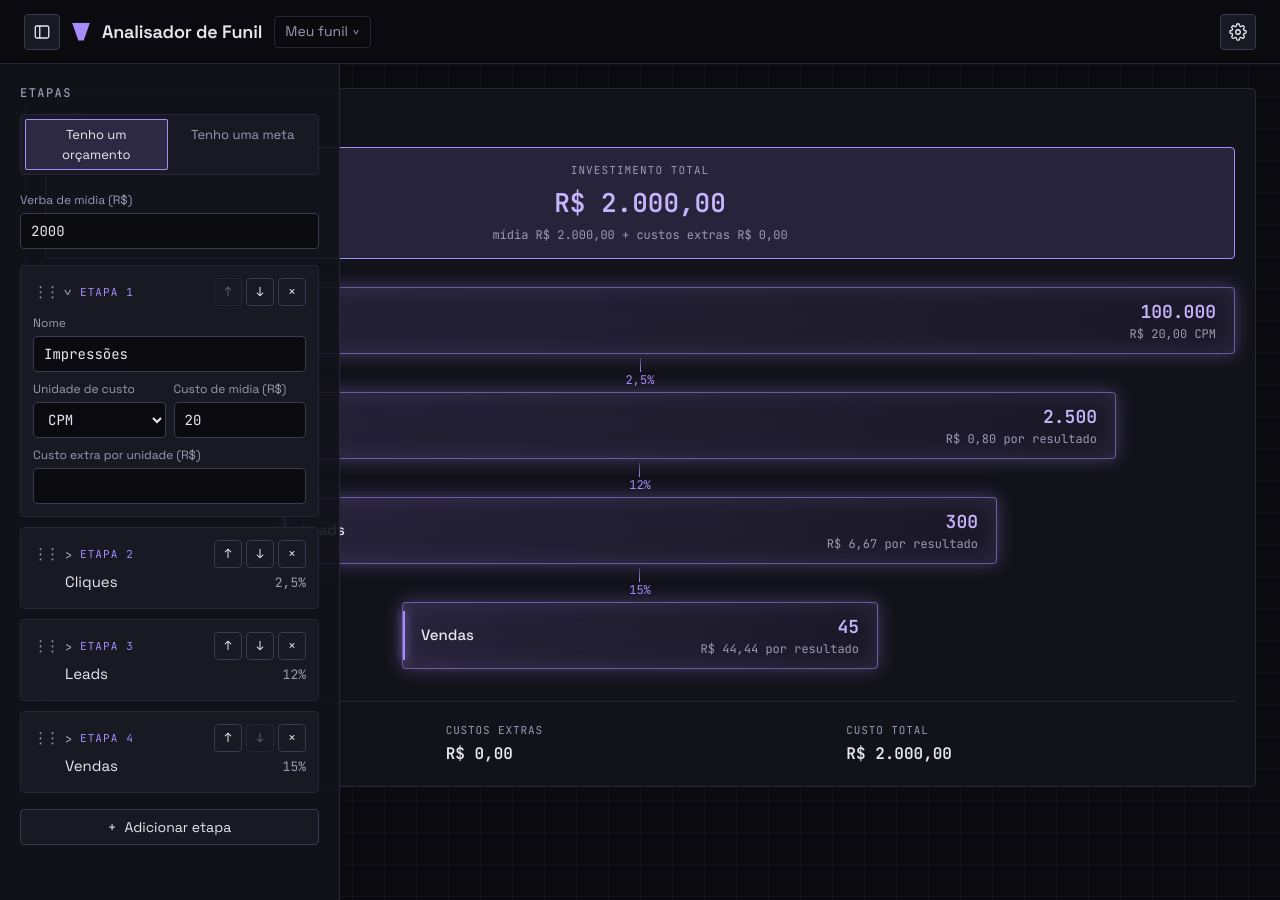
personalizada › o campo começa com o hexadecimal da cor marcada, na versão do tema escuro
Click the button named "Configurações": (1238, 32) [1220,14,1256,50]
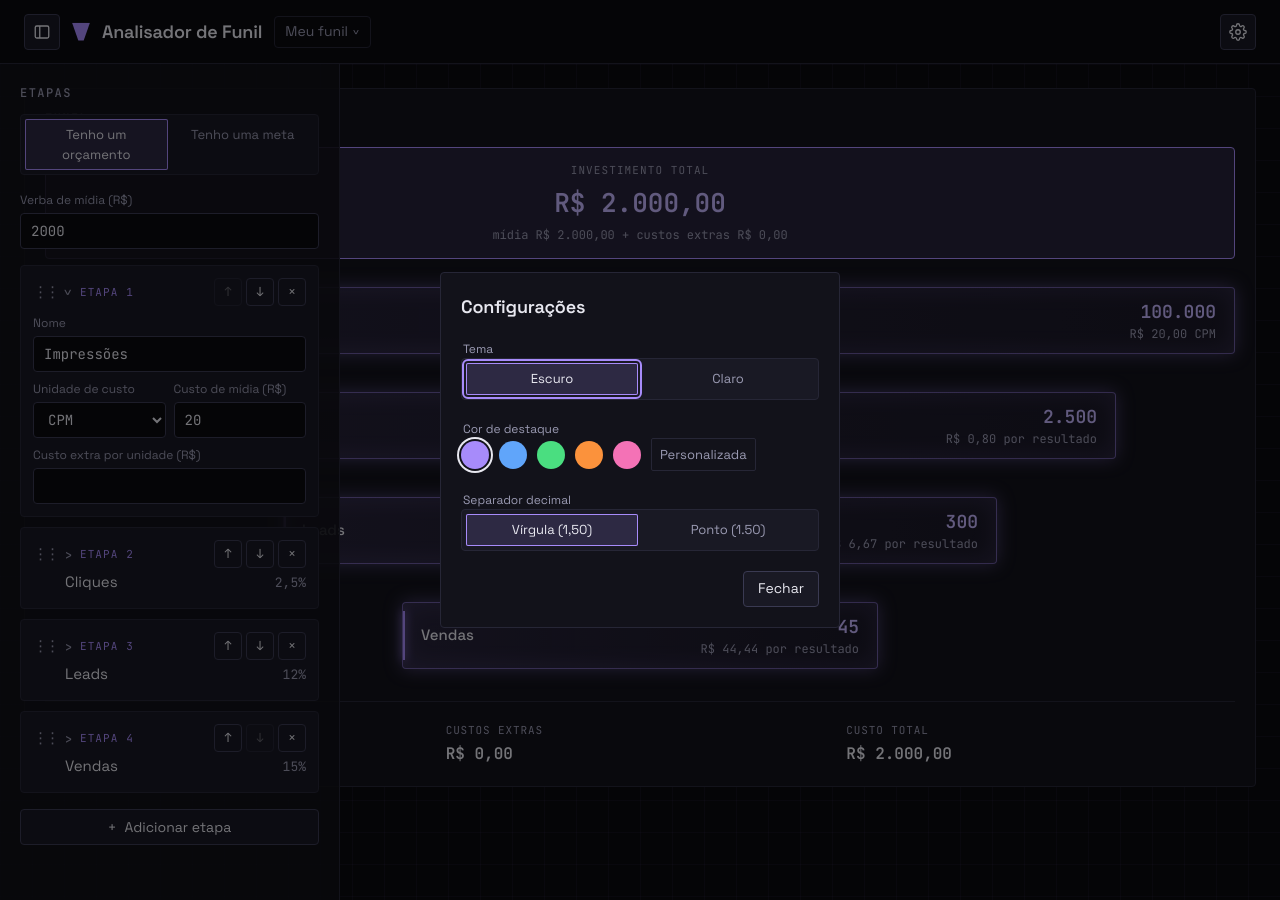
Click the 1st radio button labelled "Claro": (728, 379) [712,370,744,387]
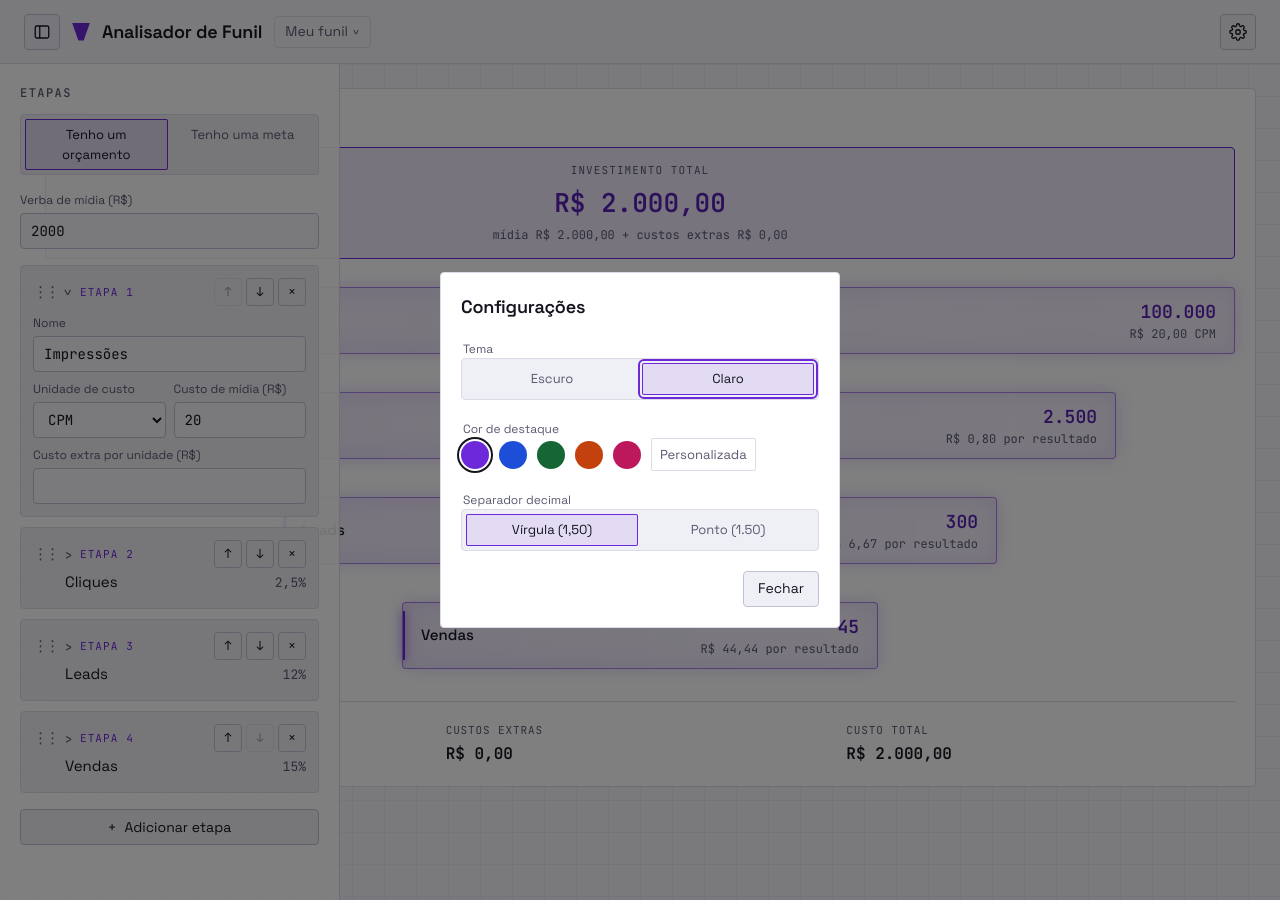
Click the radio button named "Verde": (551, 454) [537,440,565,468]
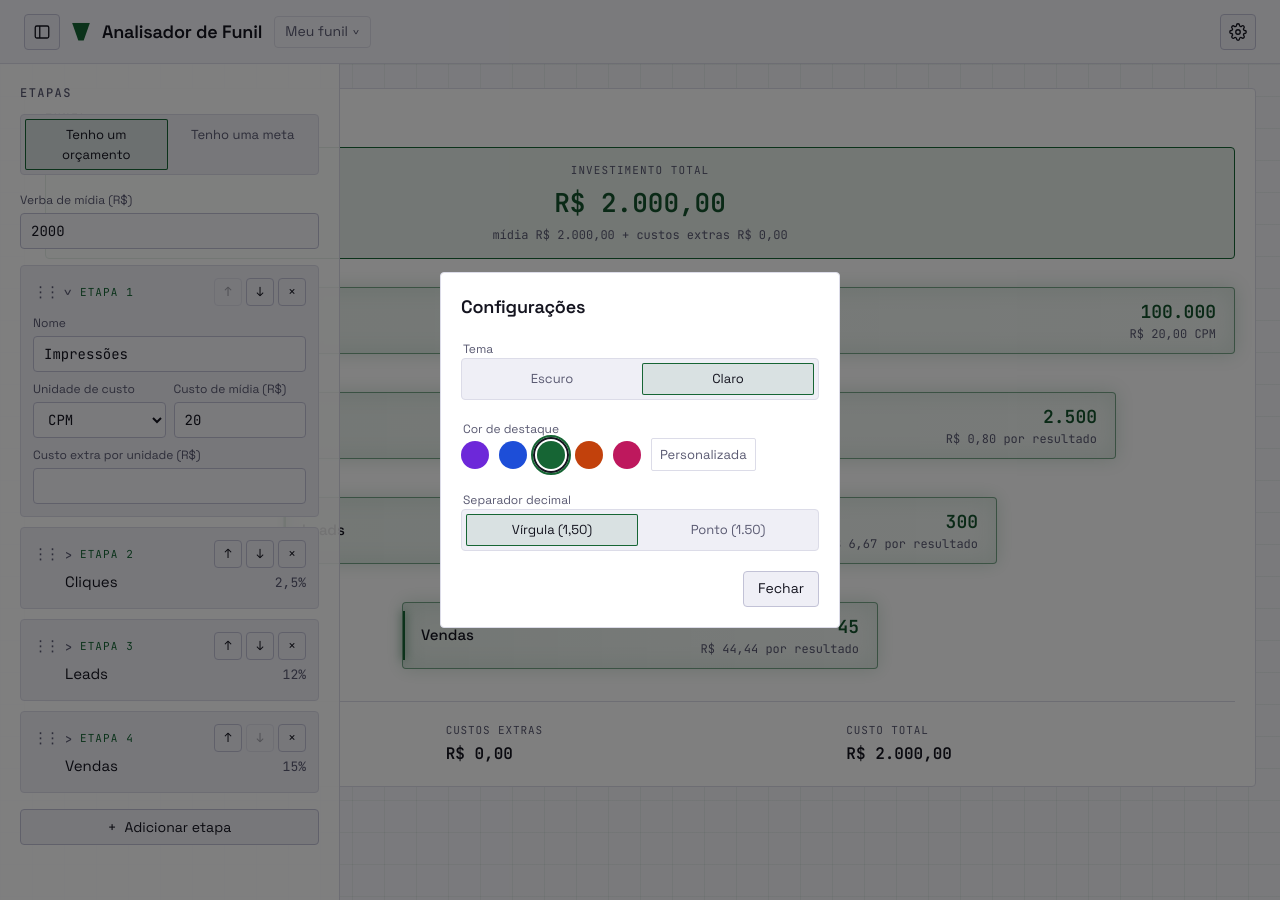
Click the 6th radio button labelled "Personalizada": (703, 455) [651,438,756,471]
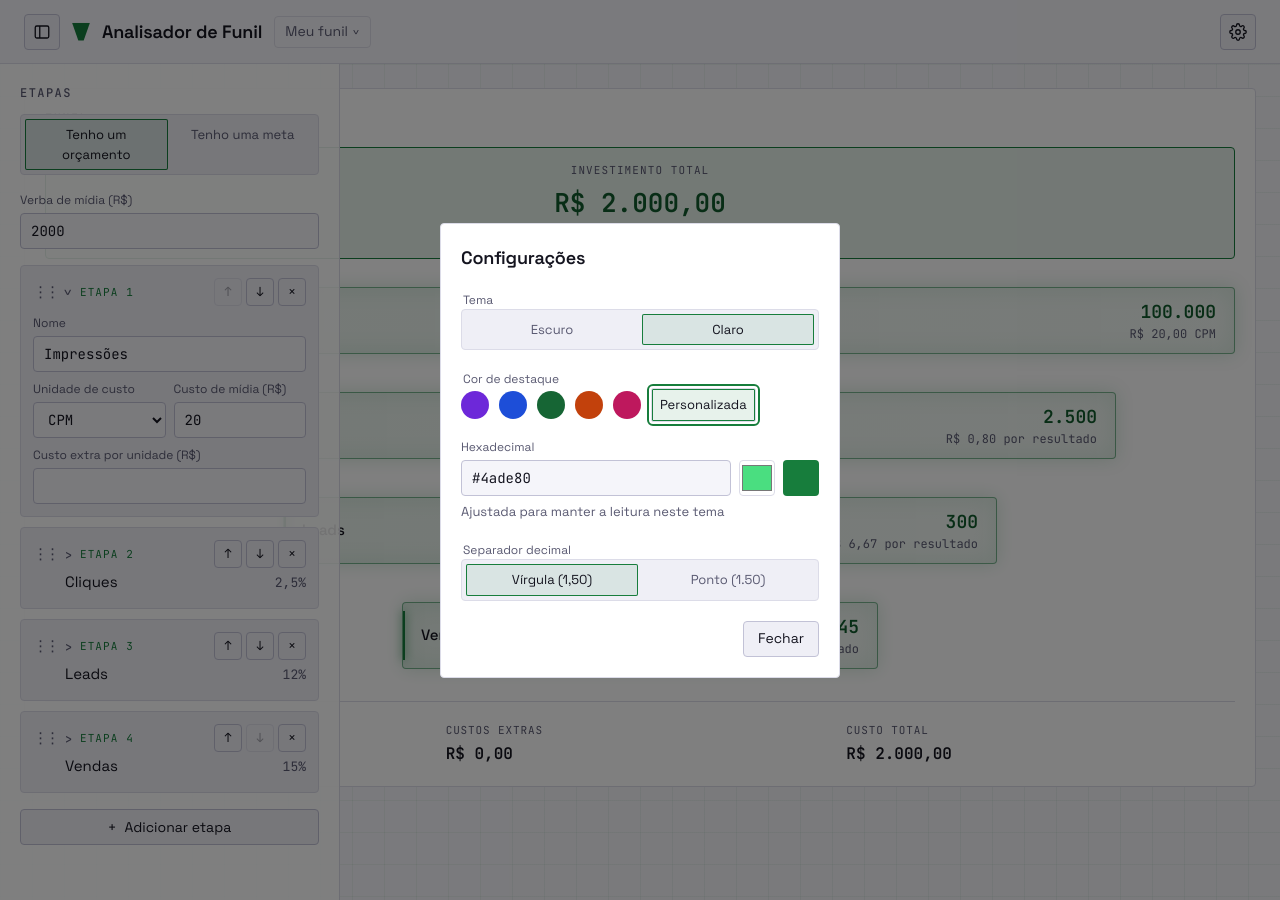
Result: the field labelled "Hexadecimal" holds "#4ade80" at [461,460,731,496]
